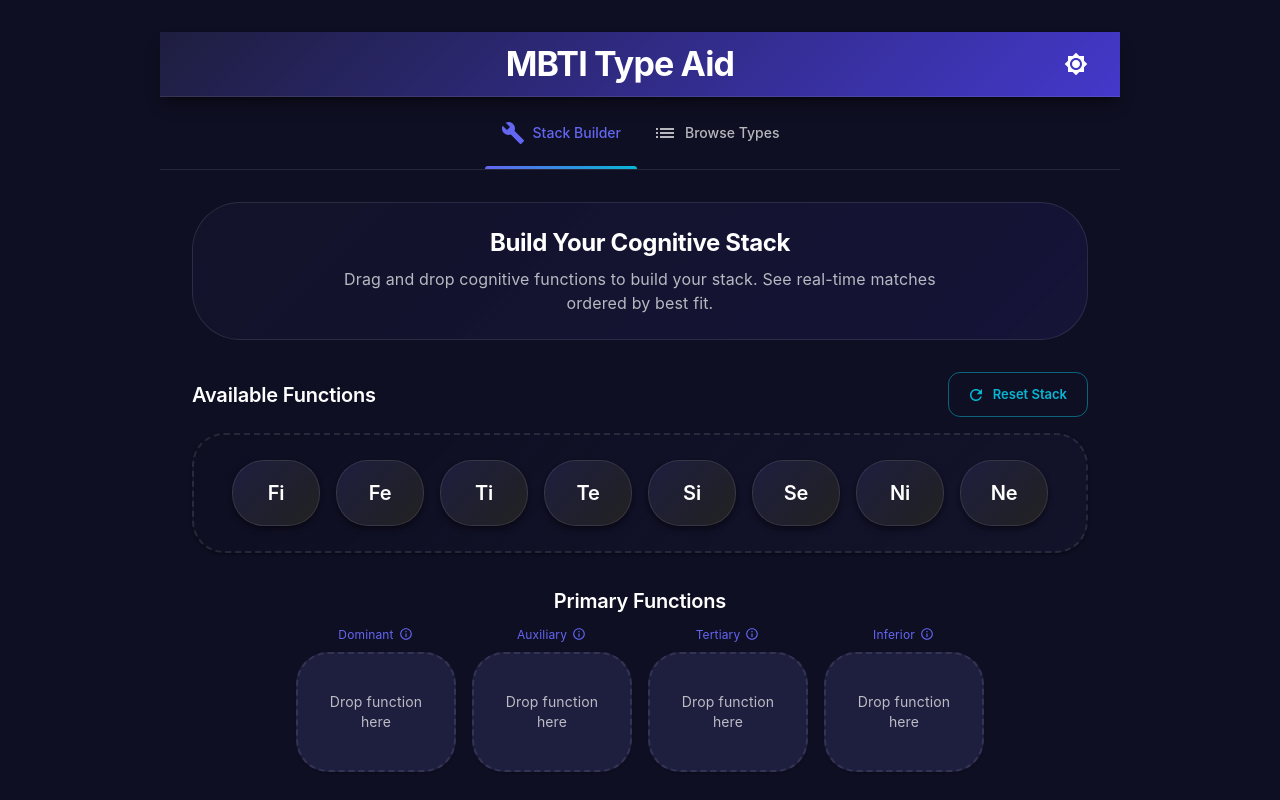
Scenario: App › should toggle dark mode when button is clicked
Check: the icon with test id "Brightness7Icon" is shown, box [1064,52,1088,76]
Note: After click, should switch to light mode icon (Brightness4)
What coordinates should you click on to do the following:
click the button with test id "Brightness7Icon"
I would click on:
 (1076, 64)
Its box is [1056,44,1096,84].
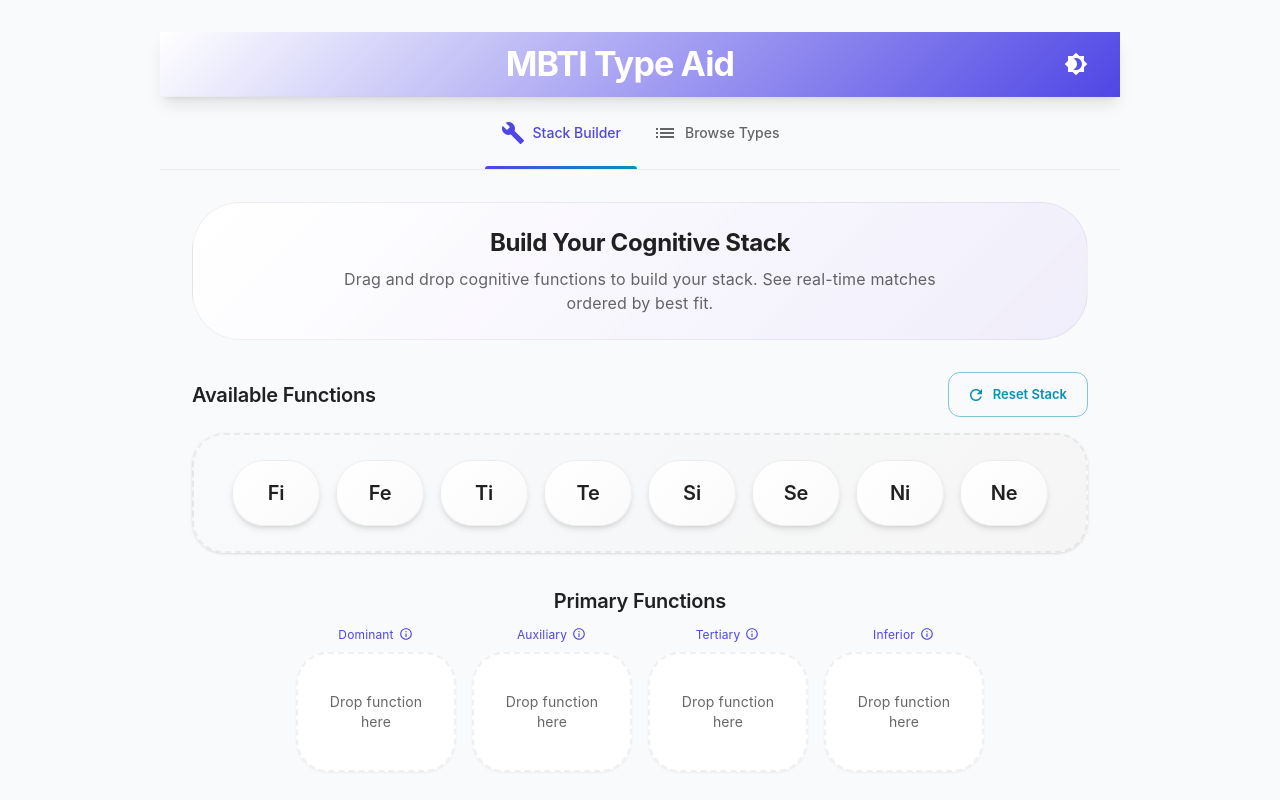
Check: the icon with test id "Brightness4Icon" is shown, box [1064,52,1088,76]
